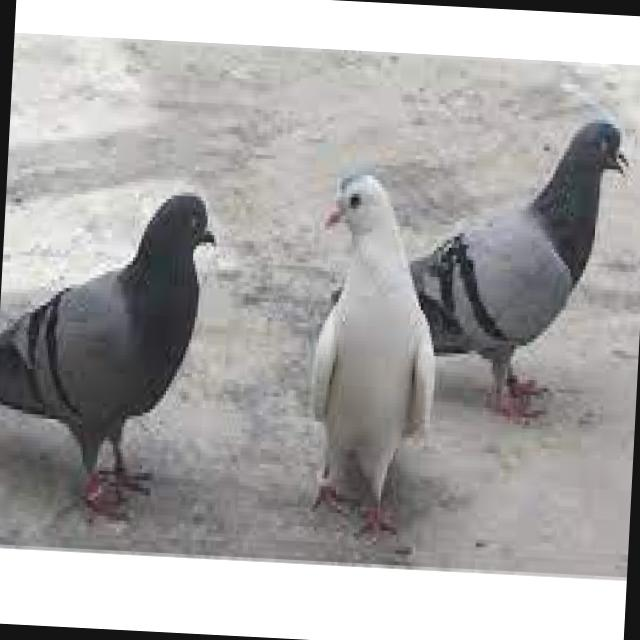bird: (0, 164, 222, 529), (399, 103, 640, 436), (296, 165, 451, 550)
